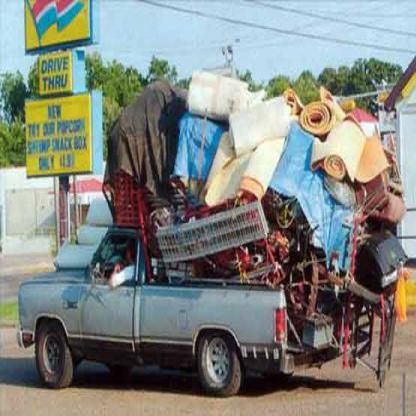overloaded-truck: (111, 62, 415, 415)
